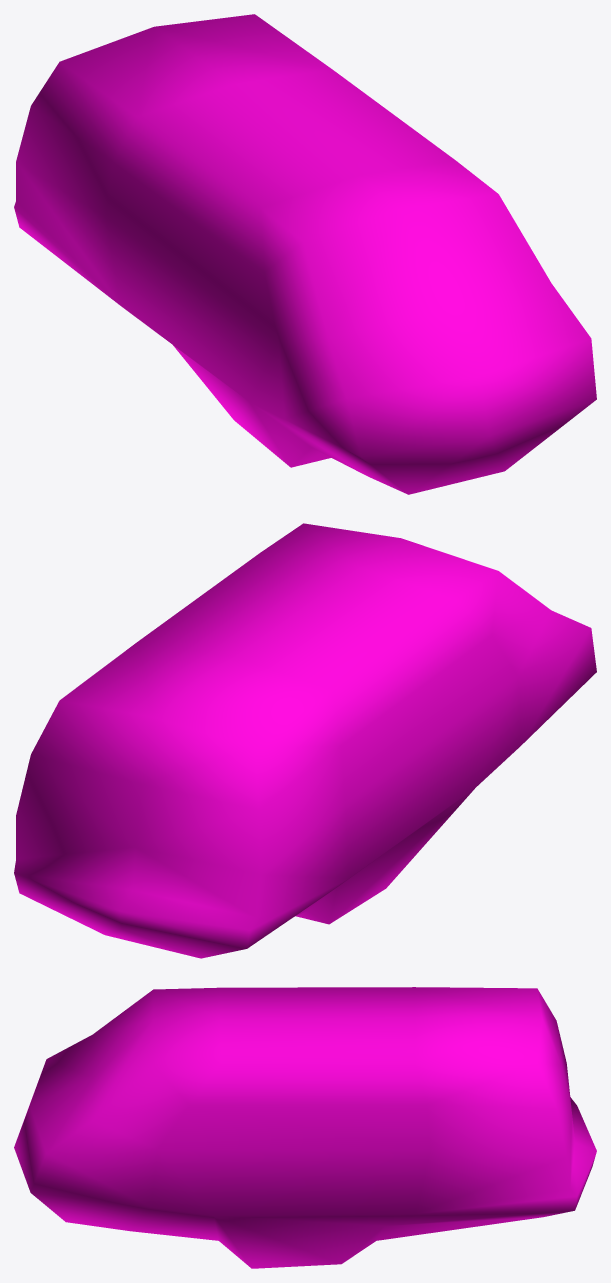
Rendered from the_hound_collider.FBX.
3 renders of one model, top to bottom at view 1: azimuth 30°, elevation 25°; view 2: azimuth 150°, elevation 25°; view 3: azimuth 270°, elevation 25°, orthographic. The views are drawn at different scales.
Parts seen in each view (by area): view 1: collider; view 2: collider; view 3: collider.
Part boxes in pixels (left/top/right/bottom): collider: left=14, top=14, right=596, bottom=494; collider: left=14, top=523, right=596, bottom=958; collider: left=14, top=987, right=596, bottom=1268.
Bounding box in the file's own units: 1.88 × 2.17 × 4.92.
